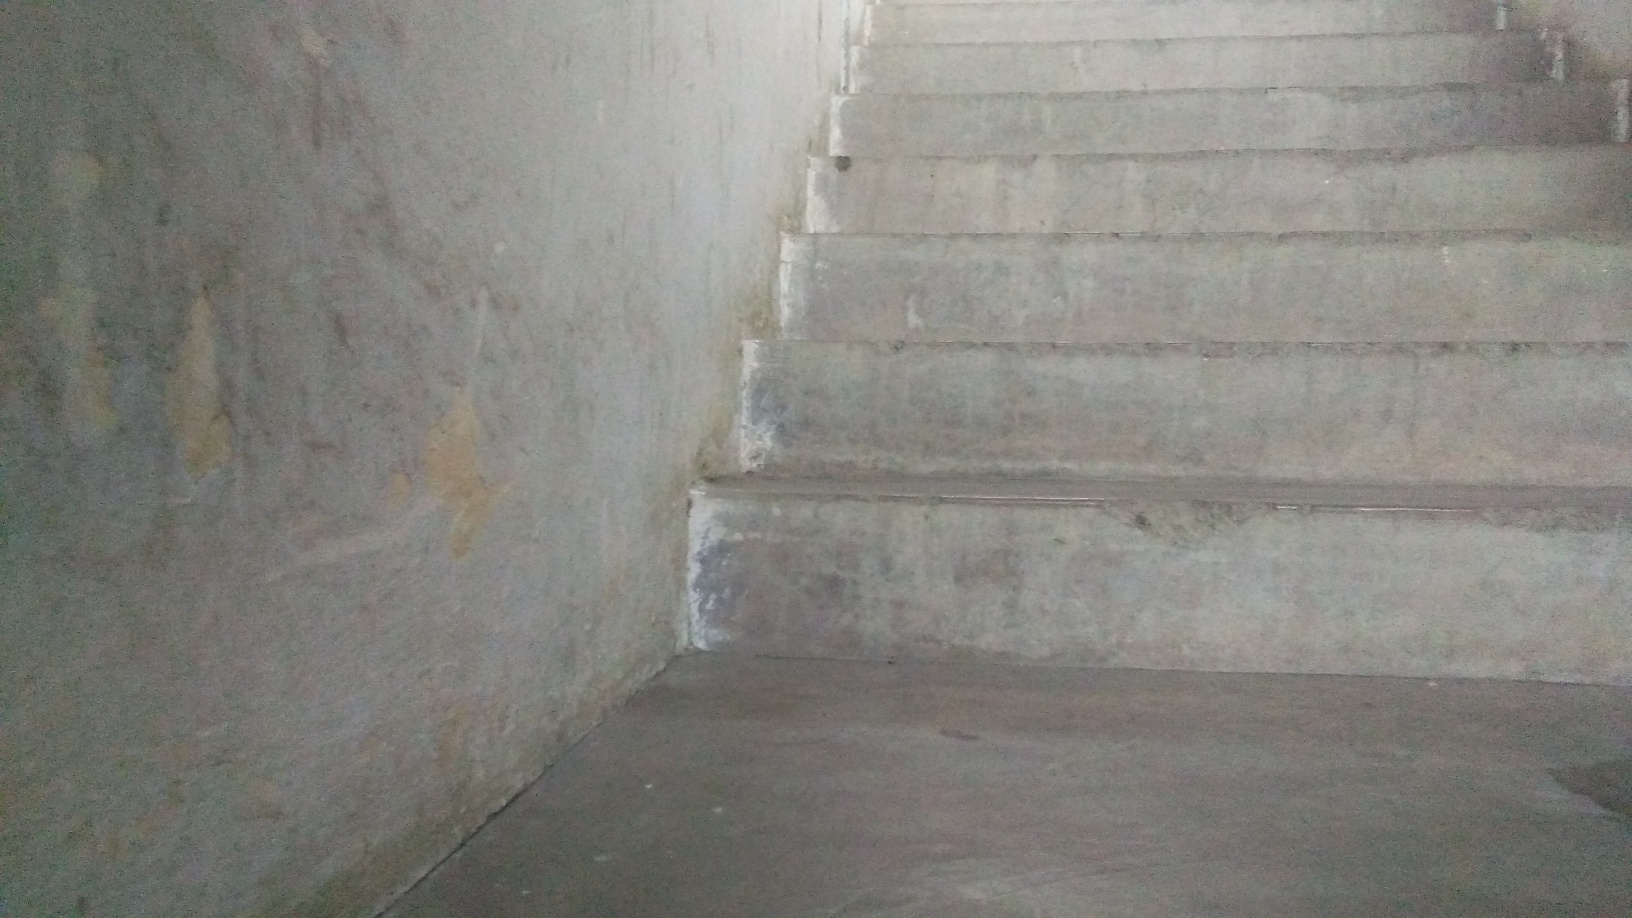stairs_up: (713, 13, 1632, 693)
